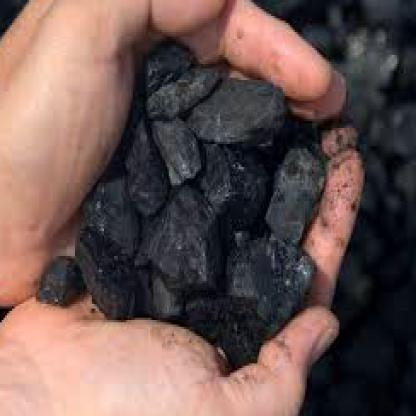Sedimentary_coal: (223, 247, 324, 352), (76, 167, 134, 311), (196, 73, 292, 153), (137, 213, 213, 297), (264, 142, 328, 240), (148, 57, 225, 124), (146, 121, 204, 188)
